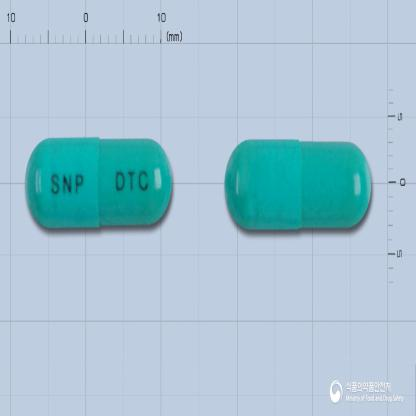pill: (24, 135, 174, 229), (224, 136, 372, 231)
